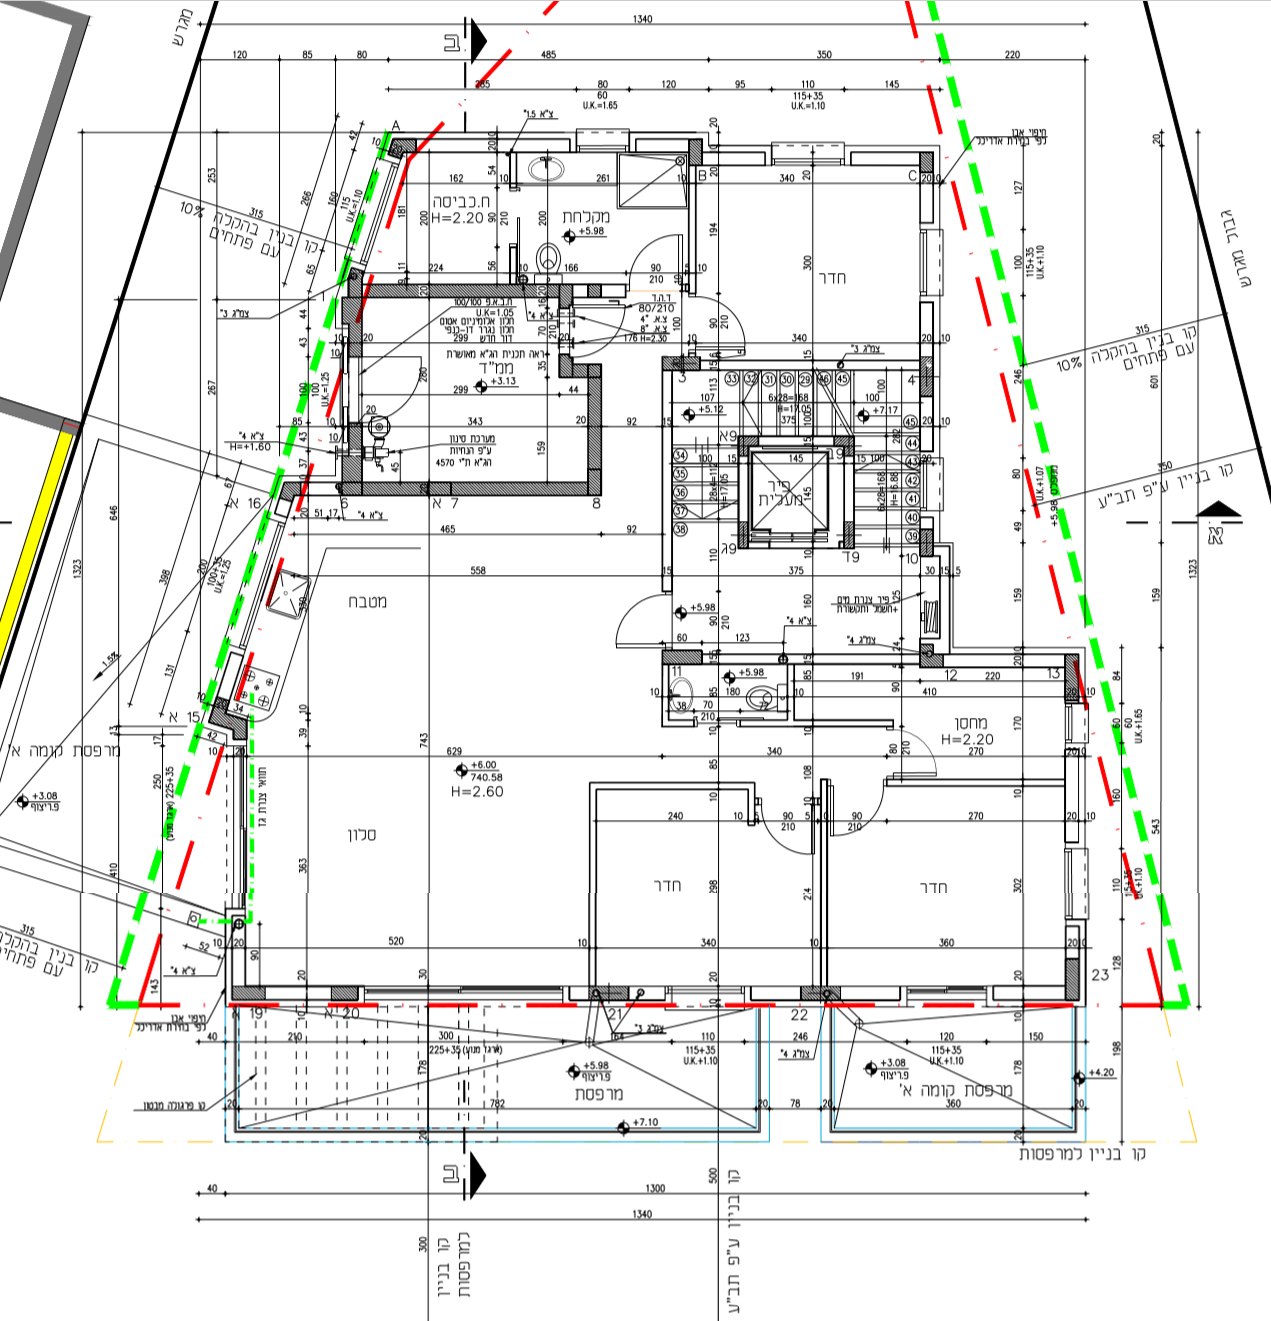door: (828, 791, 893, 849), (607, 587, 657, 658), (625, 226, 687, 278), (699, 289, 750, 351), (905, 717, 948, 778), (768, 813, 814, 859)
wall: (575, 357, 615, 481), (371, 482, 591, 498), (377, 282, 554, 300), (559, 355, 602, 377), (231, 985, 264, 1000), (331, 984, 358, 1001)
window: (1059, 847, 1078, 921), (905, 982, 988, 998), (664, 982, 746, 997), (916, 226, 931, 298), (769, 153, 845, 167), (1058, 701, 1080, 743), (573, 143, 630, 153)
